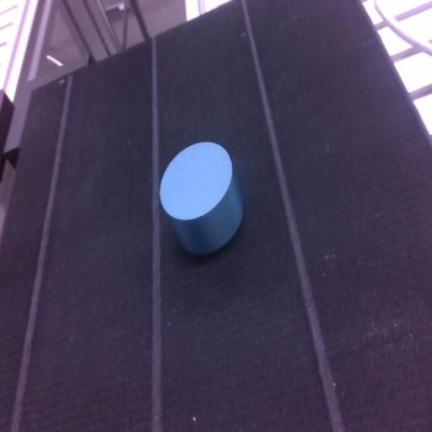cylinder: (161, 142, 242, 253)
